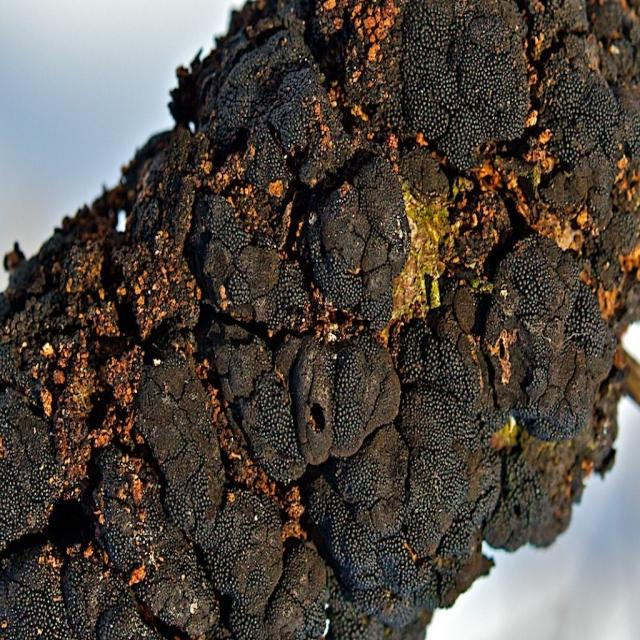Black_knot: (1, 1, 636, 637), (481, 232, 617, 443)
